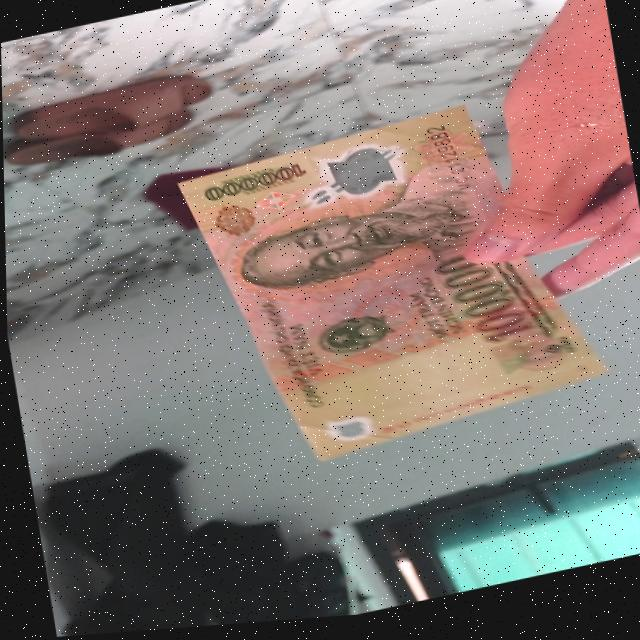100 000 VND: (166, 87, 610, 487)
